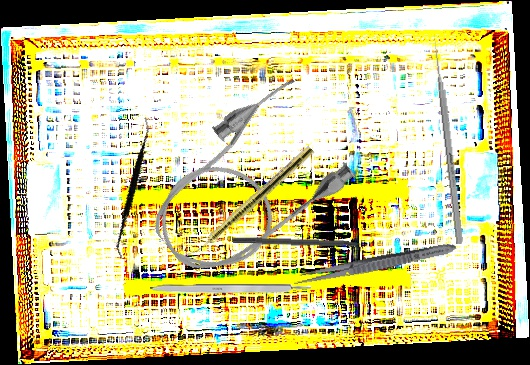Cannula: (126, 68, 367, 298)
Dressing Forceps: (292, 238, 458, 290)
Handpiece: (185, 143, 315, 263)
Hook Surgical: (231, 236, 379, 250)
Pusher: (430, 33, 465, 245)
Scalpel Handle: (150, 284, 311, 295)
Spatula Surgical: (79, 117, 189, 260)
